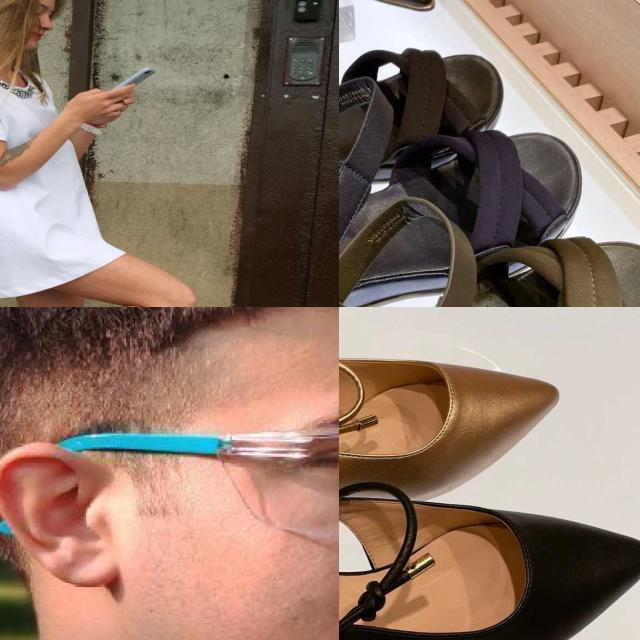No_Ear-Protection: (0, 431, 130, 609)
Sandals: (339, 474, 640, 640), (339, 331, 572, 511), (339, 197, 640, 307)
glasses: (0, 402, 339, 547)
head_nohelmet: (0, 307, 339, 389)
